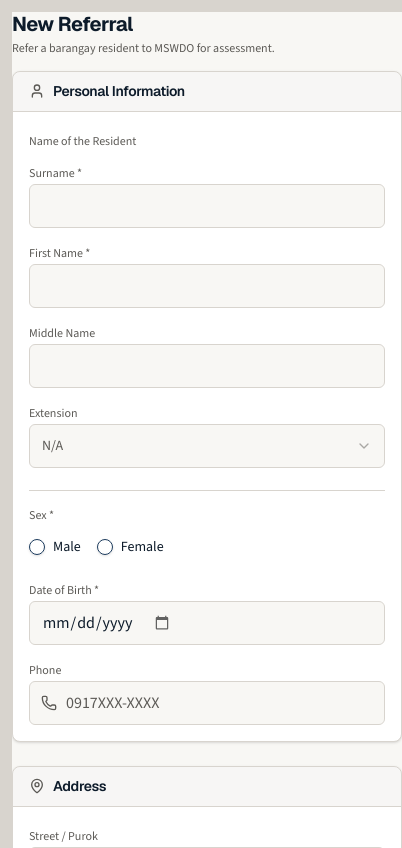
Scenario: CoordinatorReferralFormPage extension options › offers all five suffixes from the canonical list
Click the text "Extension" at (53, 413), box top-left (29, 405), bottom-right (78, 421)
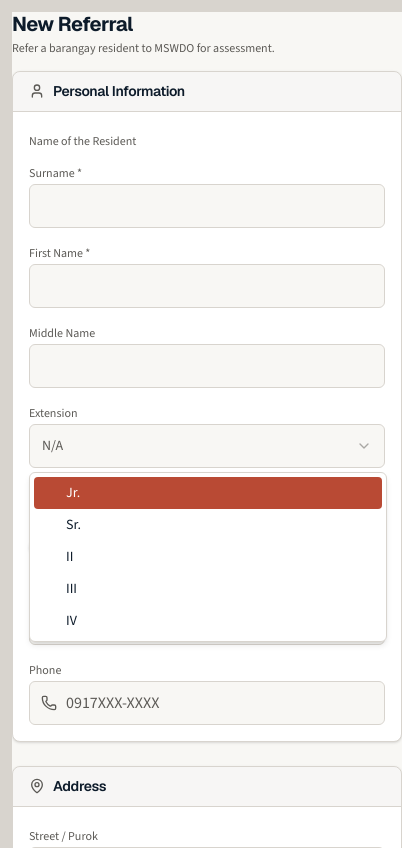
Result: the list is shown at top-left (29, 472), bottom-right (387, 642)
Result: the options read "Jr.", "Sr.", "II", "III", "IV", in this order at top-left (34, 477), bottom-right (382, 509); top-left (66, 515), bottom-right (81, 534); top-left (66, 547), bottom-right (73, 566); top-left (66, 579), bottom-right (77, 598); top-left (66, 611), bottom-right (77, 630)
